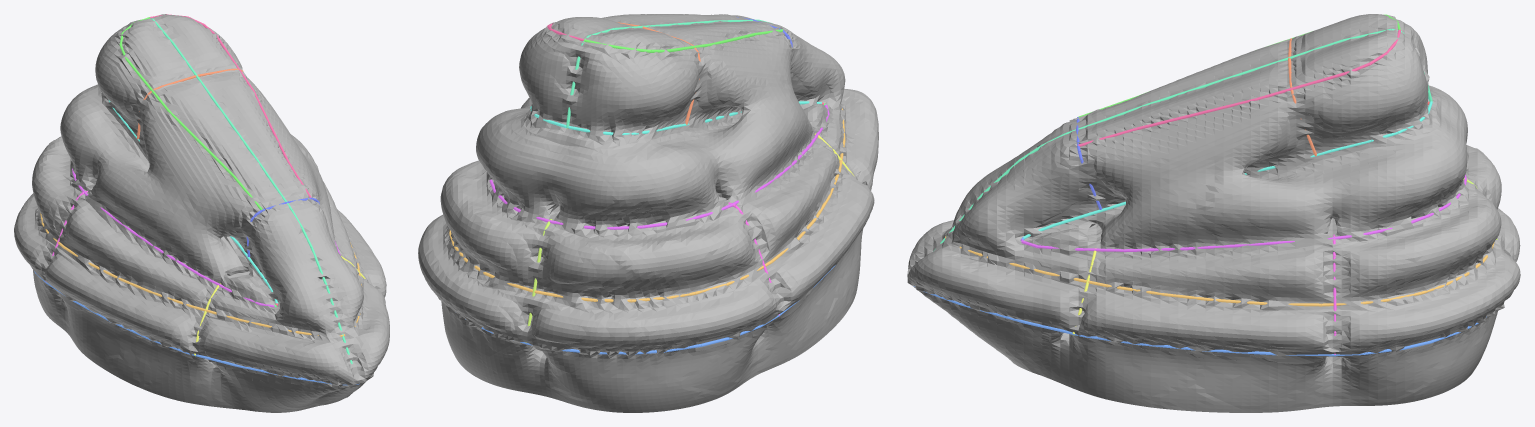
The model's file is t2f_iron.gltf.
3 views of the same model, side by side, from view 1: azimuth 30°, elevation 25°; view 2: azimuth 150°, elevation 25°; view 3: azimuth 270°, elevation 25° (orthographic). The views are drawn at different scales.
Bounding box in the file's own units: 0.5081 × 0.4665 × 0.8192.
